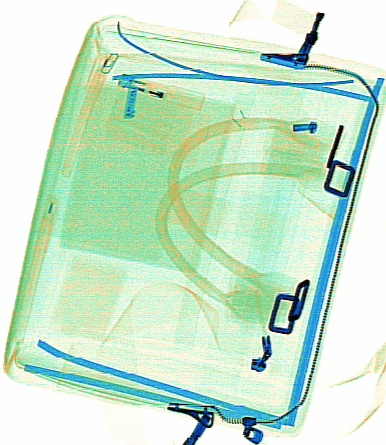lighter: (115, 68, 203, 110)
